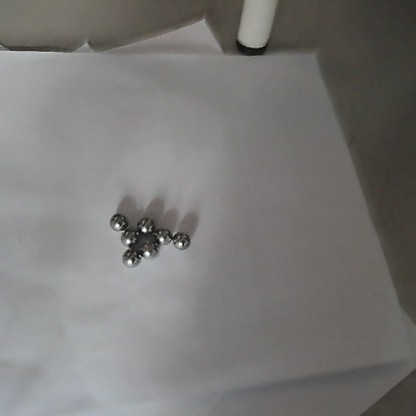ironball: (119, 244, 142, 269), (105, 209, 130, 231), (171, 228, 192, 251), (136, 239, 159, 258), (154, 226, 173, 247), (135, 215, 156, 234), (119, 227, 137, 245)
